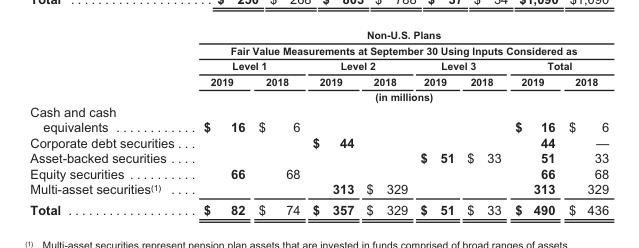table: (29, 28, 608, 216)
table column: (29, 28, 188, 216), (188, 28, 251, 216), (251, 28, 305, 216), (305, 28, 359, 216), (359, 28, 413, 216), (507, 28, 561, 216), (413, 28, 460, 216), (460, 28, 507, 216), (561, 28, 608, 216)
table column header: (29, 28, 608, 103)
table row: (29, 103, 608, 134), (29, 28, 608, 57), (29, 181, 608, 199), (29, 199, 608, 216), (29, 57, 608, 73), (29, 134, 608, 150), (29, 165, 608, 181), (29, 73, 608, 88), (29, 88, 608, 103), (29, 150, 608, 165)
table spanning cell: (188, 28, 608, 57), (188, 88, 608, 103), (188, 57, 305, 73), (305, 57, 413, 73), (507, 57, 608, 73), (413, 57, 507, 73)
